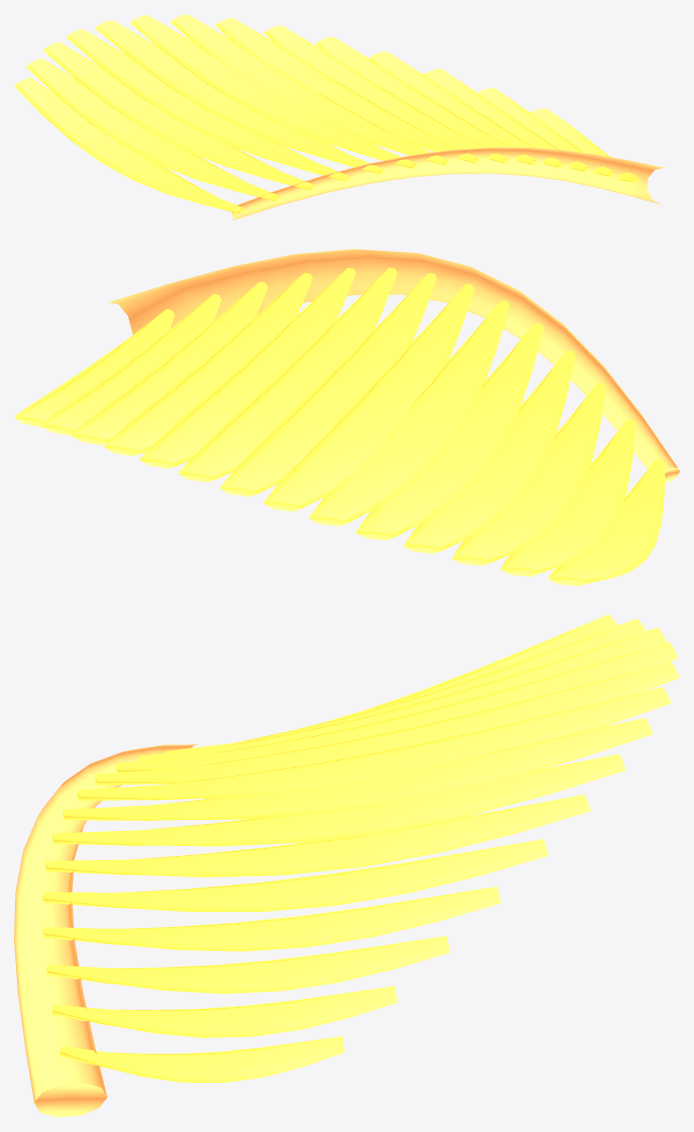
File: phoenix_wing_l.glb
3 views of the same model, one above another, from view 1: azimuth 30°, elevation 25°; view 2: azimuth 150°, elevation 25°; view 3: azimuth 270°, elevation 25° (orthographic). The views are drawn at different scales.
Parts seen in each view (by area): view 1: phoenix_wing_l; view 2: phoenix_wing_l; view 3: phoenix_wing_l.
Part boxes in pixels (x1,y1,x2,y2): phoenix_wing_l: [14, 14, 664, 220]; phoenix_wing_l: [14, 249, 679, 585]; phoenix_wing_l: [14, 614, 679, 1117].
Size of the model in its own units: 2.28 by 0.553 by 1.79.
